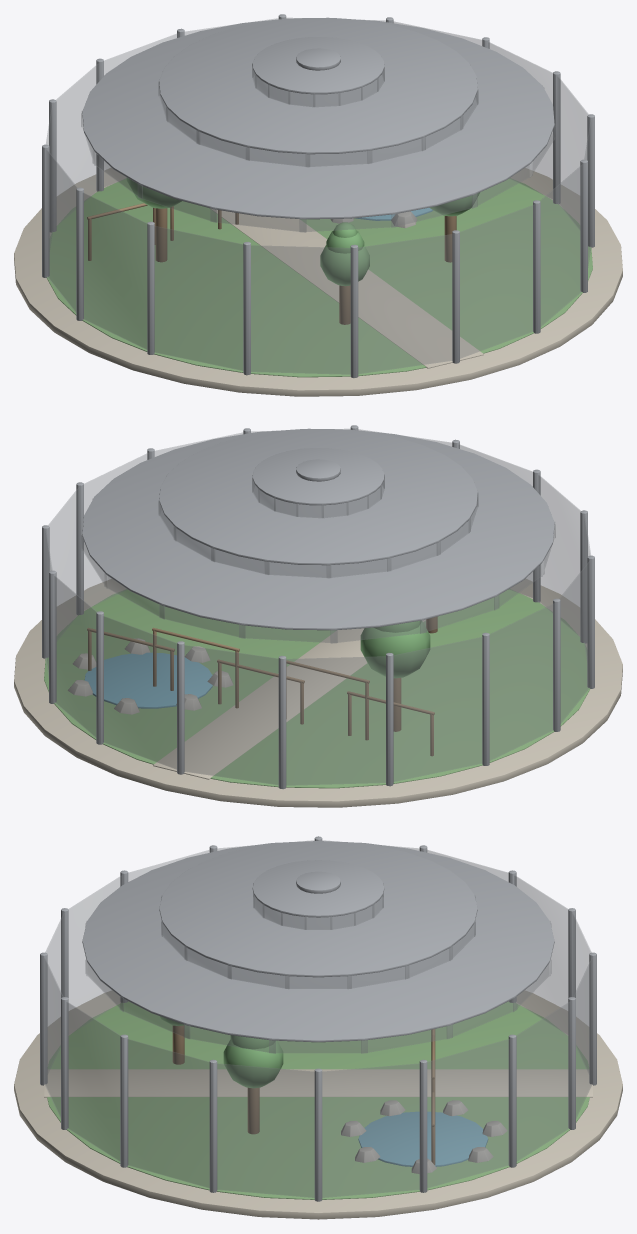
Rendered from th24_voliere.glb.
3 renders of one model, top to bottom at view 1: azimuth 30°, elevation 25°; view 2: azimuth 150°, elevation 25°; view 3: azimuth 270°, elevation 25°, orthographic.
Parts seen in each view (by area): view 1: Cylinder.001, Cylinder.018, Cylinder.019, Cylinder, Cube.011, Cube.012, Cube.010, Cube.013, Cube, Cube.009, Cube.014, Cylinder.020 (+32 smaller); view 2: Cylinder.001, Cylinder.018, Cylinder.019, Cylinder, Cube.006, Cube.005, Cube.007, Cube.004, Cube, Cube.008, Cube.003, Cylinder.020 (+29 smaller); view 3: Cylinder.001, Cylinder.018, Cylinder.019, Cylinder, Cube, Cube.001, Cube.016, Cube.002, Cube.015, Cube.003, Cube.014, Cylinder.020 (+31 smaller).
Part boxes in pixels (x1=…): Cylinder.001: x1=46, y1=178, x2=592, y2=377; Cylinder.018: x1=82, y1=18, x2=554, y2=219; Cylinder.019: x1=159, y1=17, x2=477, y2=154; Cylinder: x1=14, y1=168, x2=622, y2=396; Cube.011: x1=251, y1=245, x2=350, y2=374; Cube.012: x1=358, y1=234, x2=452, y2=373; Cube.010: x1=154, y1=226, x2=242, y2=370; Cube.013: x1=460, y1=205, x2=533, y2=358; Cube: x1=210, y1=208, x2=483, y2=368; Cube.009: x1=82, y1=192, x2=146, y2=349; Cube.014: x1=540, y1=165, x2=582, y2=326; Cylinder.020: x1=252, y1=37, x2=384, y2=94; Cylinder.001: x1=44, y1=589, x2=590, y2=788; Cylinder.018: x1=82, y1=429, x2=554, y2=630; Cylinder.019: x1=159, y1=428, x2=477, y2=565; Cylinder: x1=14, y1=579, x2=622, y2=807; Cube.006: x1=286, y1=656, x2=385, y2=785; Cube.005: x1=184, y1=645, x2=278, y2=784; Cube.007: x1=394, y1=637, x2=482, y2=781; Cube.004: x1=103, y1=616, x2=176, y2=769; Cube: x1=153, y1=620, x2=425, y2=779; Cube.008: x1=490, y1=603, x2=554, y2=760; Cube.003: x1=54, y1=576, x2=96, y2=737; Cylinder.020: x1=252, y1=448, x2=384, y2=505; Cylinder.001: x1=47, y1=1001, x2=589, y2=1199; Cylinder.018: x1=82, y1=842, x2=554, y2=1042; Cylinder.019: x1=159, y1=841, x2=477, y2=977; Cylinder: x1=14, y1=990, x2=622, y2=1219; Cube: x1=44, y1=1069, x2=592, y2=1097; Cube.001: x1=322, y1=1063, x2=419, y2=1197; Cube.016: x1=217, y1=1063, x2=314, y2=1197; Cube.002: x1=427, y1=1039, x2=509, y2=1187; Cube.015: x1=127, y1=1039, x2=209, y2=1187; Cube.003: x1=516, y1=1002, x2=569, y2=1161; Cube.014: x1=67, y1=1002, x2=120, y2=1161; Cylinder.020: x1=252, y1=860, x2=384, y2=917.
Bounding box in the file's own units: 24.4 × 9.29 × 24.4.
